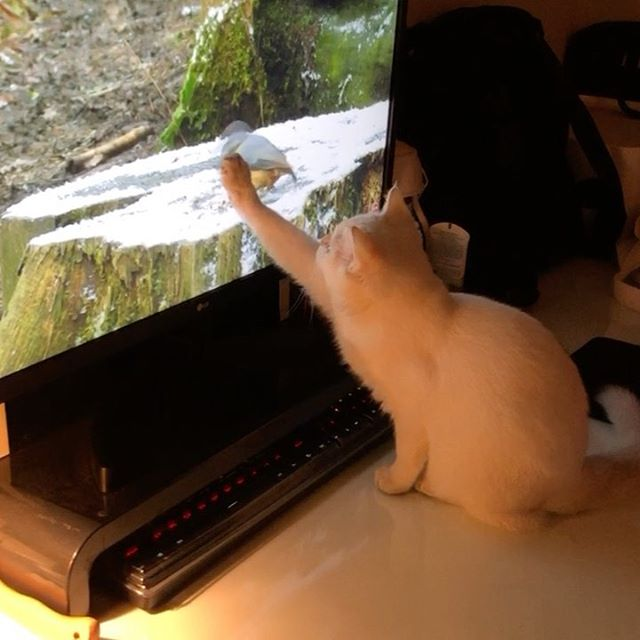cat: (307, 189, 435, 315)
